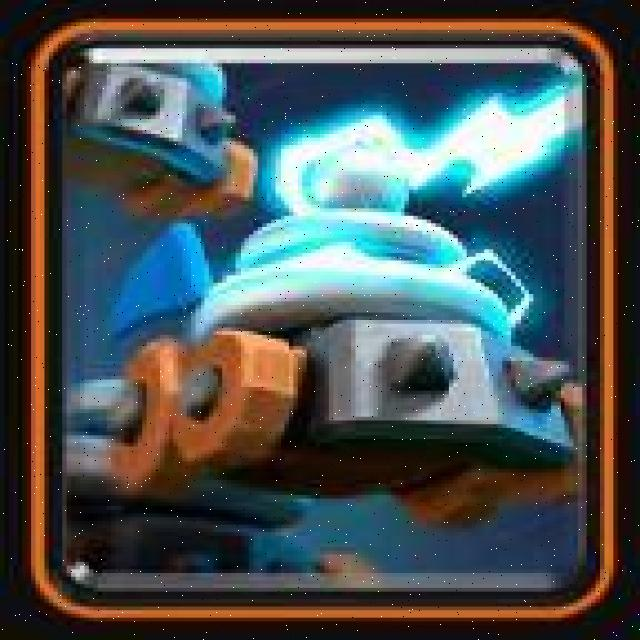Zappies: (34, 25, 615, 622)
